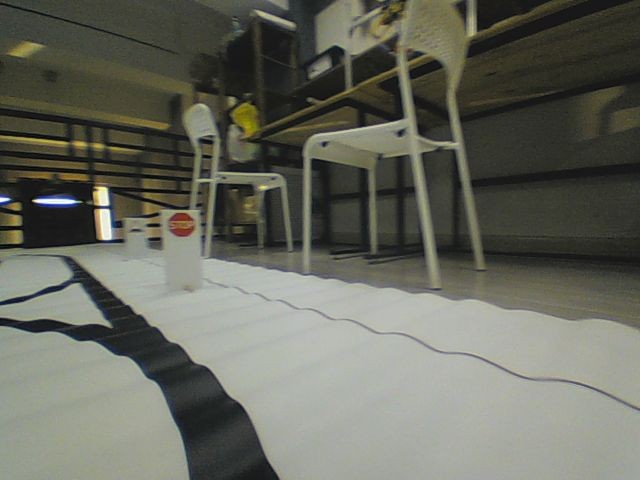Stop: (166, 211, 196, 239)
